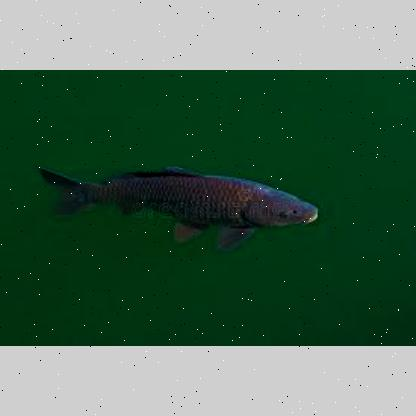ikan-mas: (39, 163, 319, 253)
